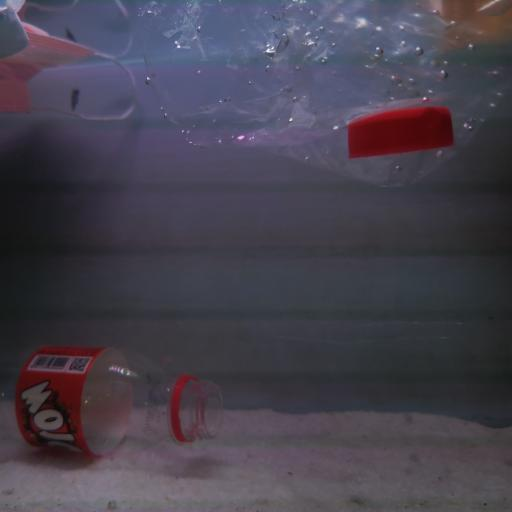bottle_cap: (342, 106, 456, 158)
mask: (5, 16, 143, 129)
plastic_bag: (156, 5, 512, 189)
plastic_bottle: (2, 343, 223, 464)
